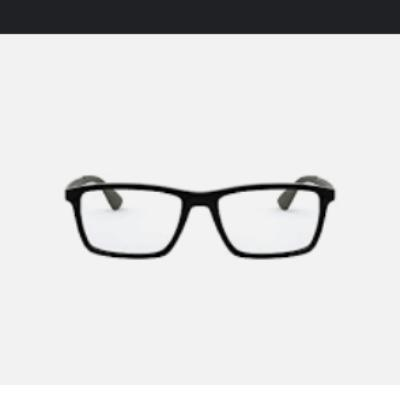glasses: (54, 169, 339, 266)
